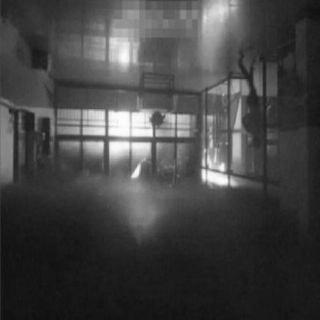Fire: (107, 111, 151, 152), (202, 155, 234, 189), (132, 161, 146, 185)
